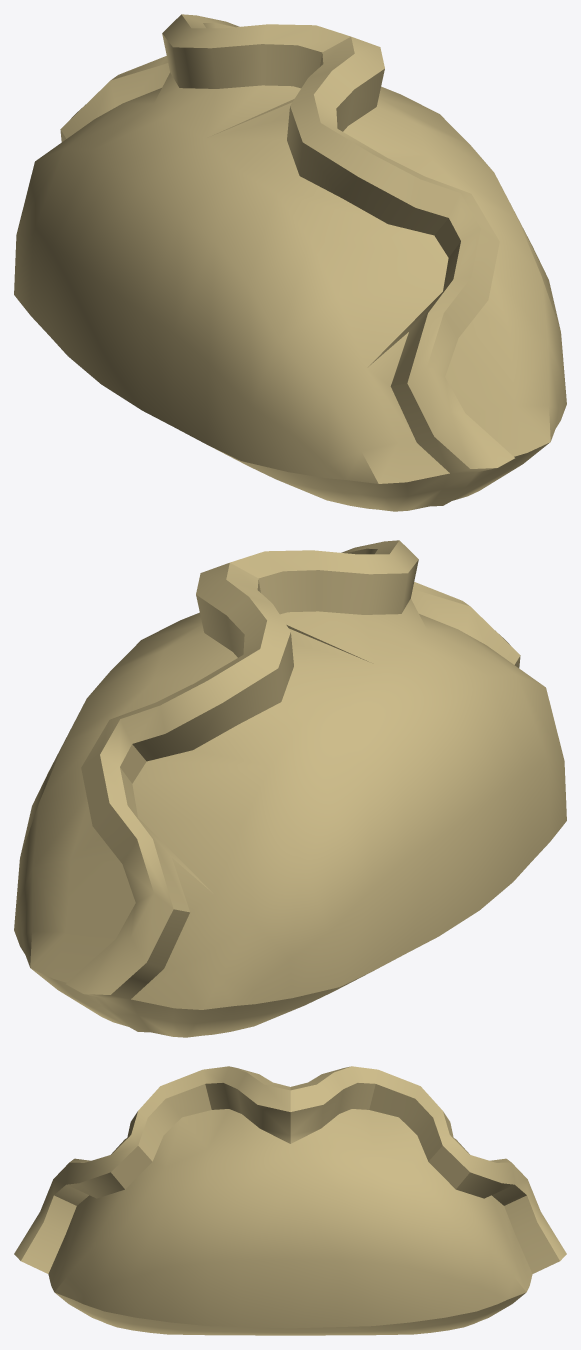
Rendered from Gyoza.glb.
3 views of the same model, one above another, from view 1: azimuth 30°, elevation 25°; view 2: azimuth 150°, elevation 25°; view 3: azimuth 270°, elevation 25° (orthographic). The views are drawn at different scales.
Parts seen in each view (by area): view 1: Food_Gyoza; view 2: Food_Gyoza; view 3: Food_Gyoza.
Boxes of the visible parts, x1,y1,x2,y2 form: Food_Gyoza: (14,14,566,511); Food_Gyoza: (14,540,566,1037); Food_Gyoza: (14,1066,566,1335).
Size of the model in its own units: 0.2969 by 0.2588 by 0.5511.
Materials: 1 (1 with a texture image).
